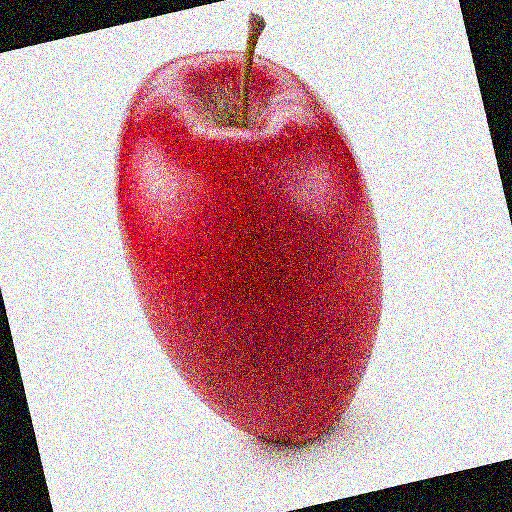fruit: (33, 132, 258, 502)
